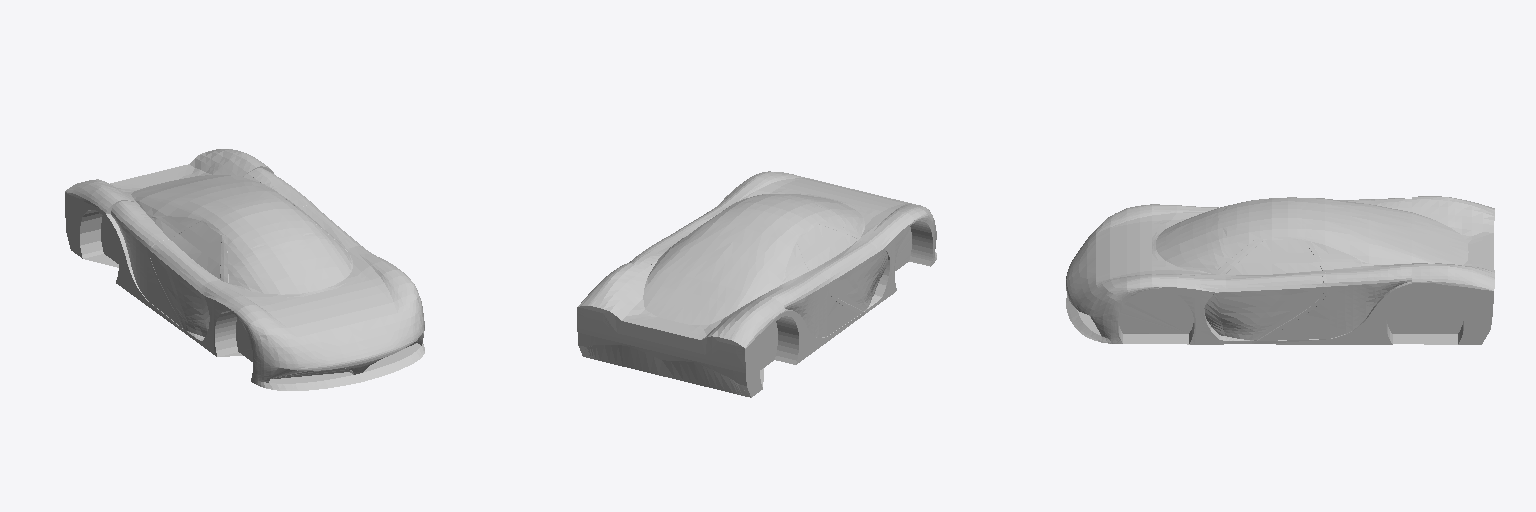
File: Final_Print.obj
The picture shows the model from 3 angles: view 1: azimuth 30°, elevation 25°; view 2: azimuth 150°, elevation 25°; view 3: azimuth 270°, elevation 25°; orthographic projection.
Visible parts, largest first — view 1: plates; view 2: plates; view 3: plates.
Boxes of the visible parts, <box> form: plates: <box>65,149,424,390</box>; plates: <box>577,171,936,397</box>; plates: <box>1066,196,1494,344</box>.
Bounding box in the file's own units: 2.02 × 1.09 × 4.46.